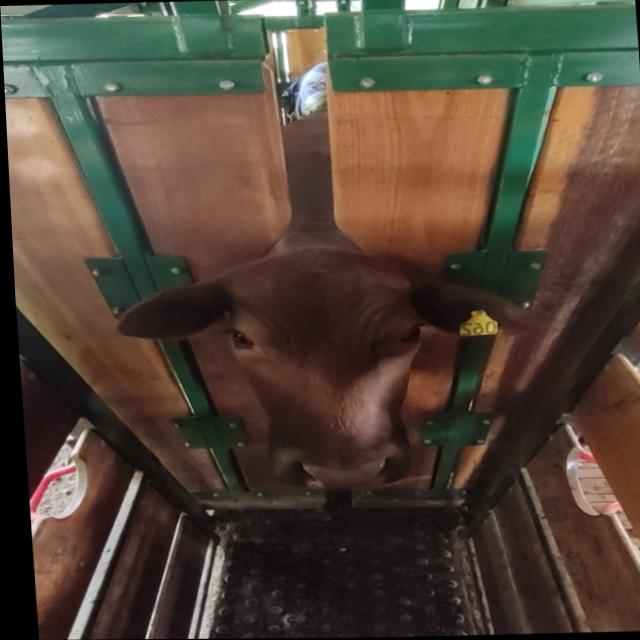cowFace: (218, 246, 431, 492)
